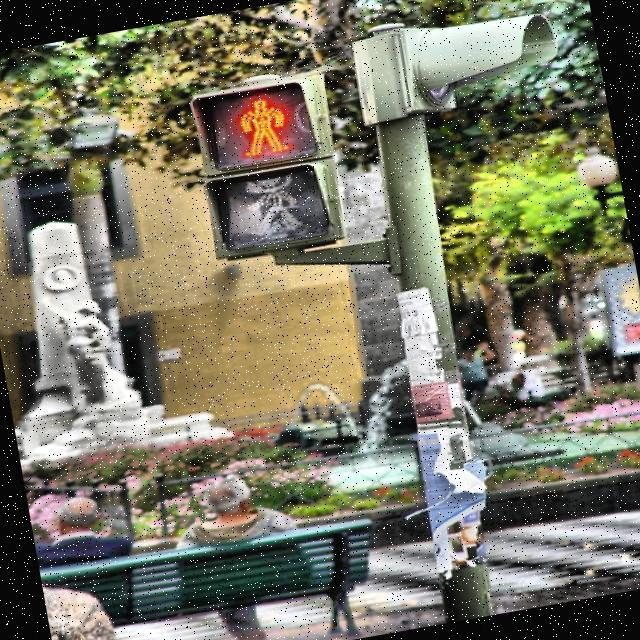red_light: (232, 92, 292, 161)
